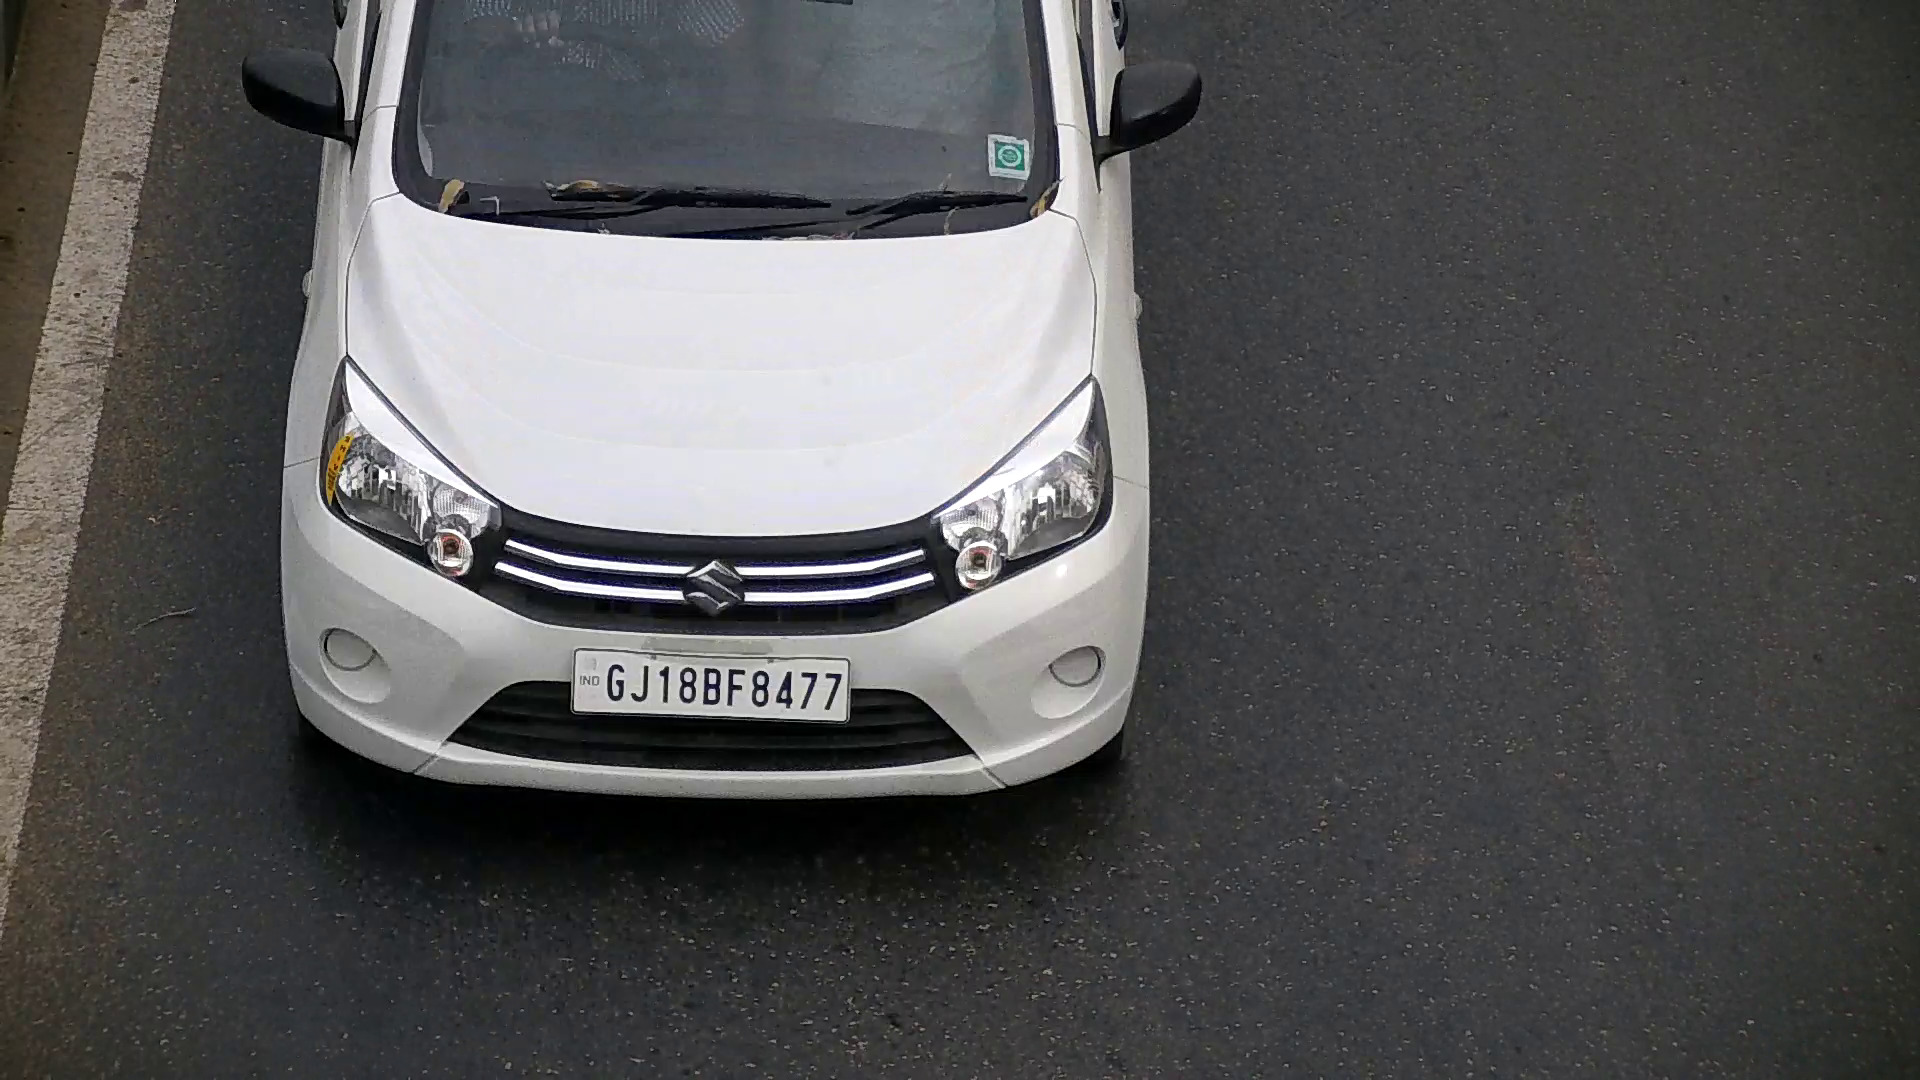numberplate: (568, 645, 854, 723)
